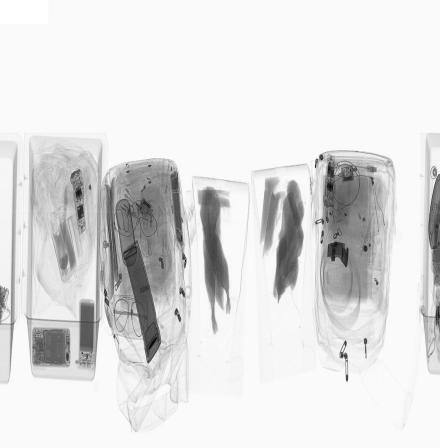Powerbank: (79, 299, 97, 370)
